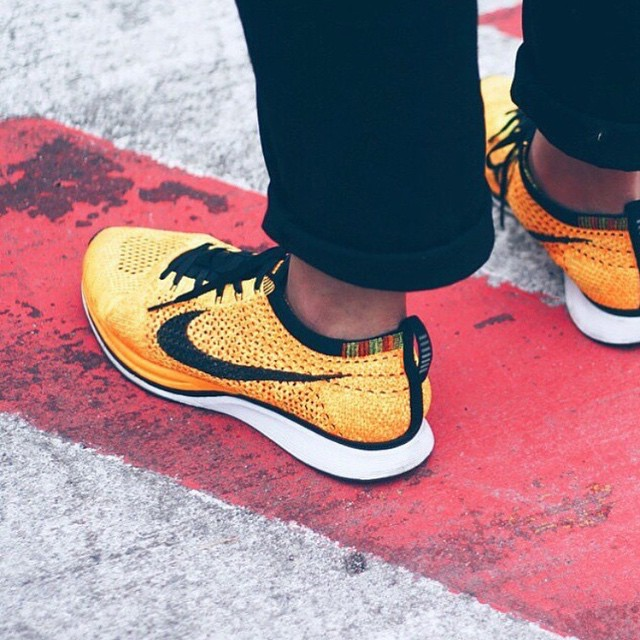sneaker: (51, 199, 464, 507), (463, 51, 640, 368)
